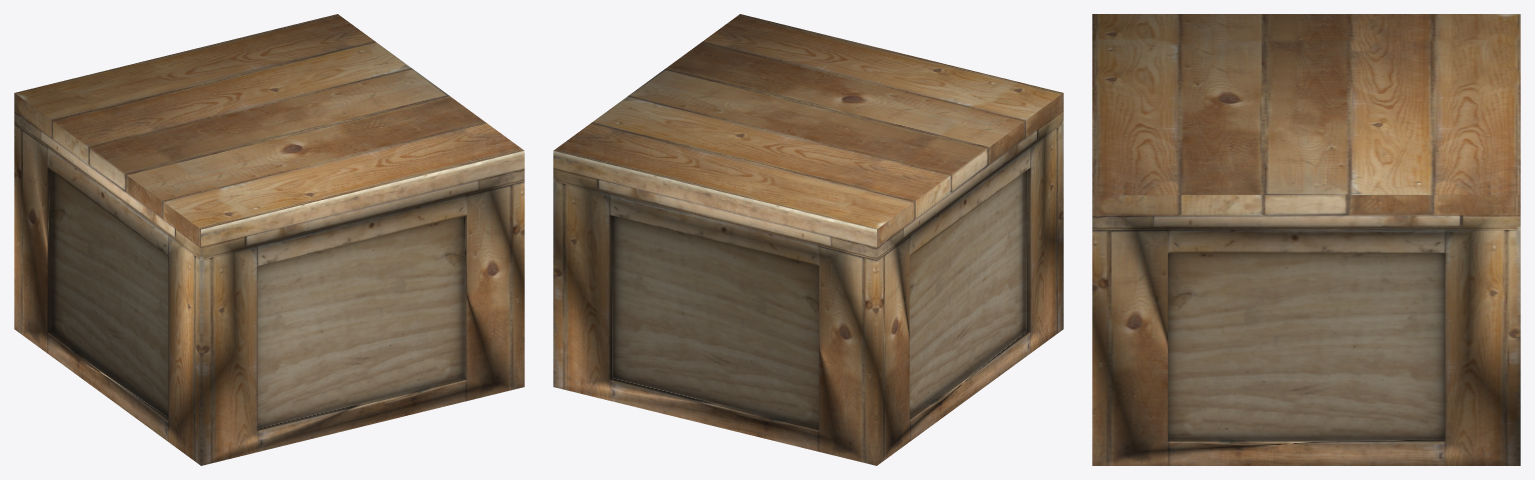
The picture shows the model from 3 angles, left to right: view 1: azimuth 30°, elevation 25°; view 2: azimuth 150°, elevation 25°; view 3: azimuth 270°, elevation 25°; orthographic projection. The views are drawn at different scales.
Parts seen in each view (by area): view 1: Mesh; view 2: Mesh; view 3: Mesh.
Boxes of the visible parts, x1,y1,x2,y2 form: Mesh: [14, 14, 524, 465]; Mesh: [553, 14, 1063, 465]; Mesh: [1092, 14, 1520, 465].
Bounding box in the file's own units: 120 × 83.72 × 120.
